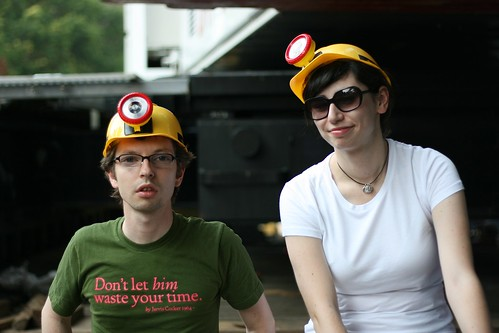person hardhat: (266, 38, 494, 333), (48, 90, 281, 333)
